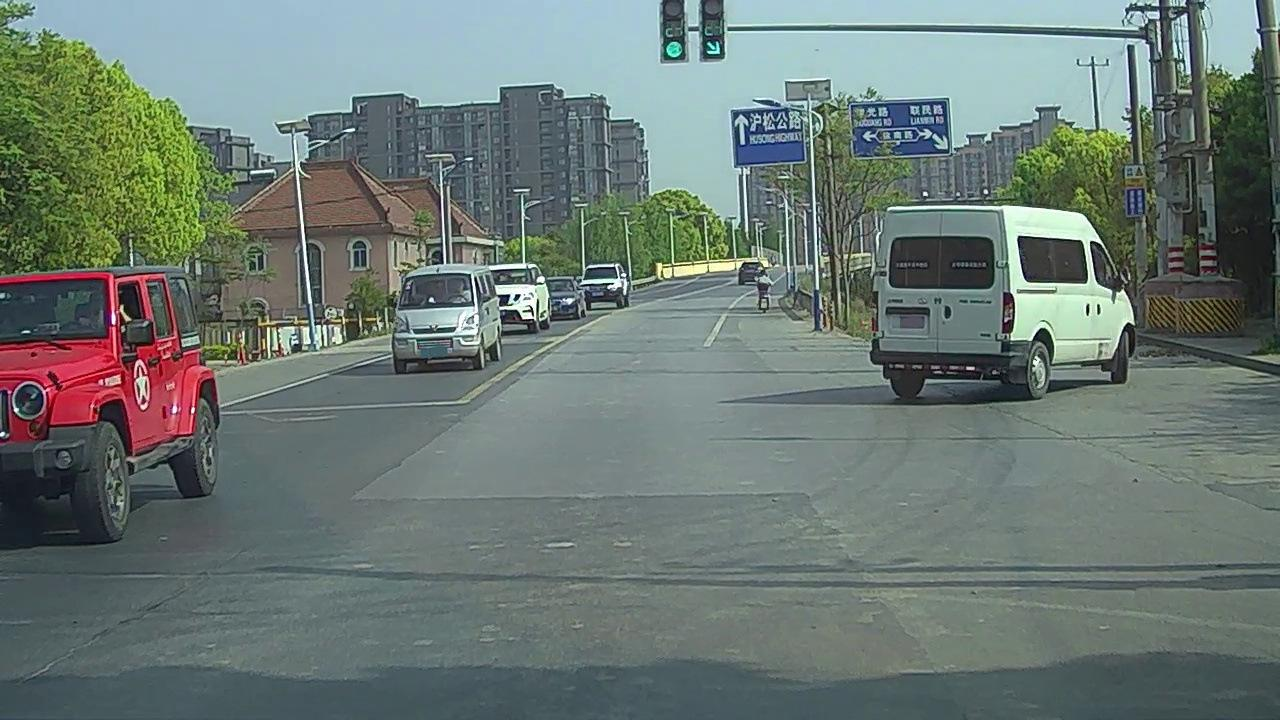traffic_light: (660, 1, 687, 63), (700, 2, 726, 62)
